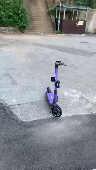beam: (45, 59, 69, 119)
